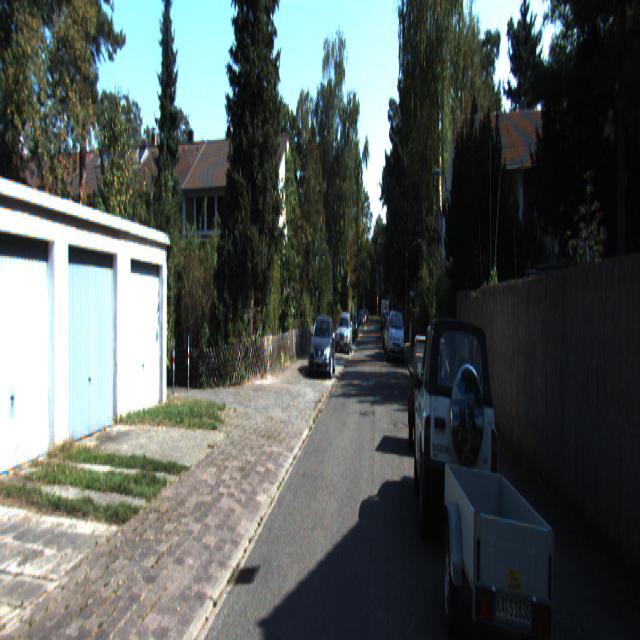Car: (414, 312, 500, 570), (444, 456, 559, 638), (309, 313, 337, 380), (388, 310, 406, 364), (336, 312, 353, 353)
